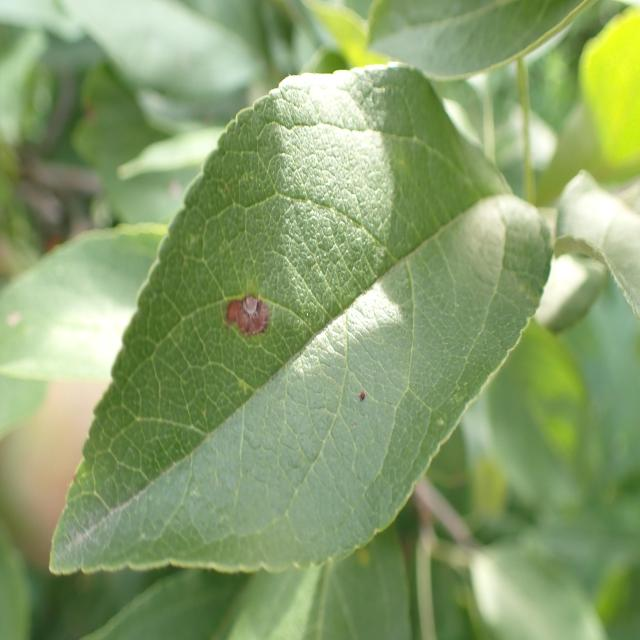Black Rot: (220, 252, 267, 360)
